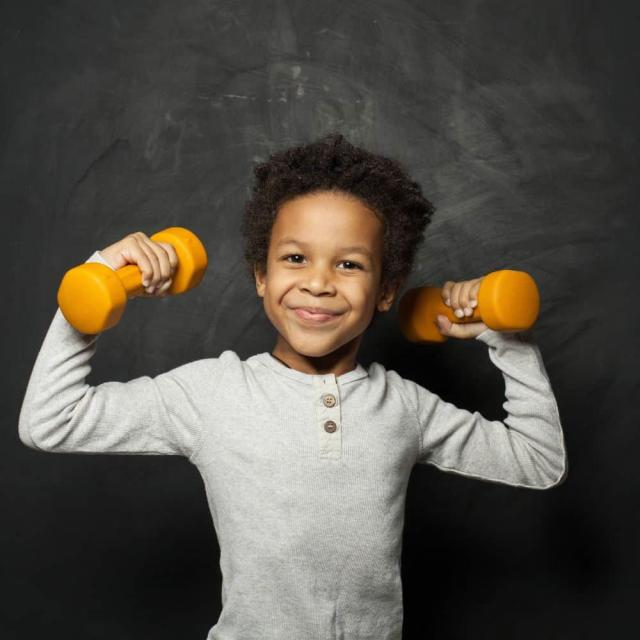child: (14, 135, 568, 640)
